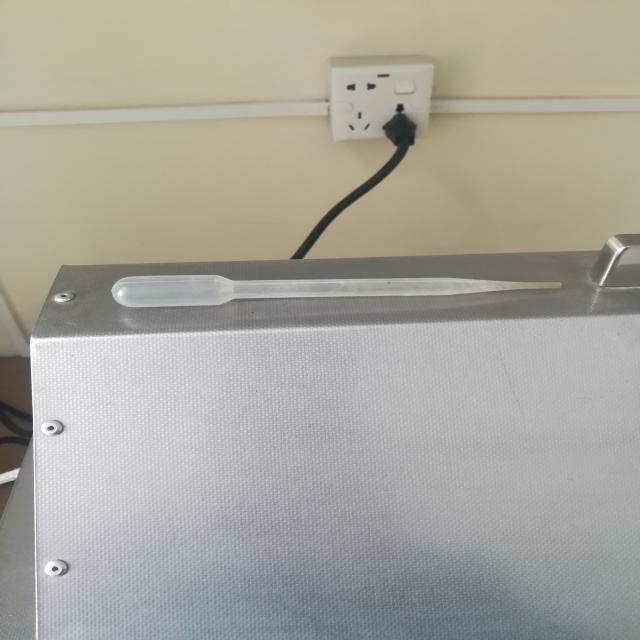Pipette: (63, 233, 593, 319)
